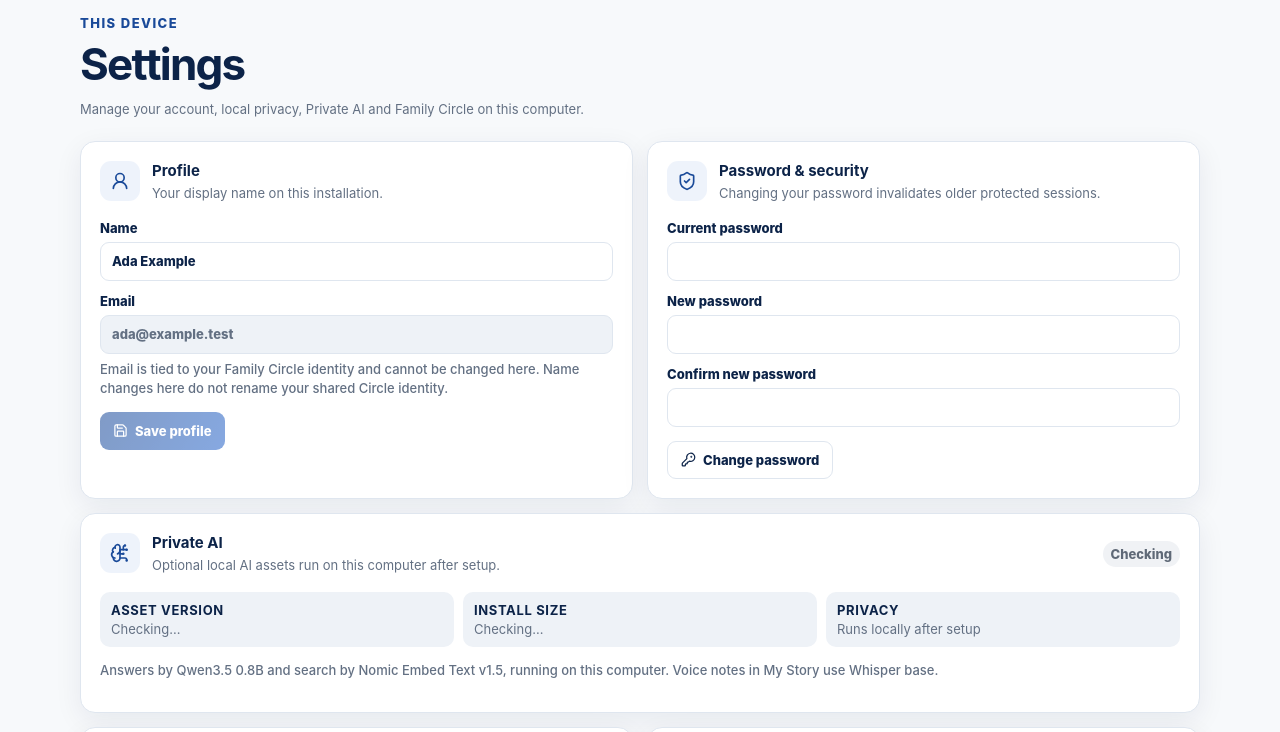
Scenario: SettingsPage › validates password confirmation before crossing the desktop boundary
Type "current password 123" into the password field labelled "Current password" at (924, 262), box [667, 242, 1180, 281]
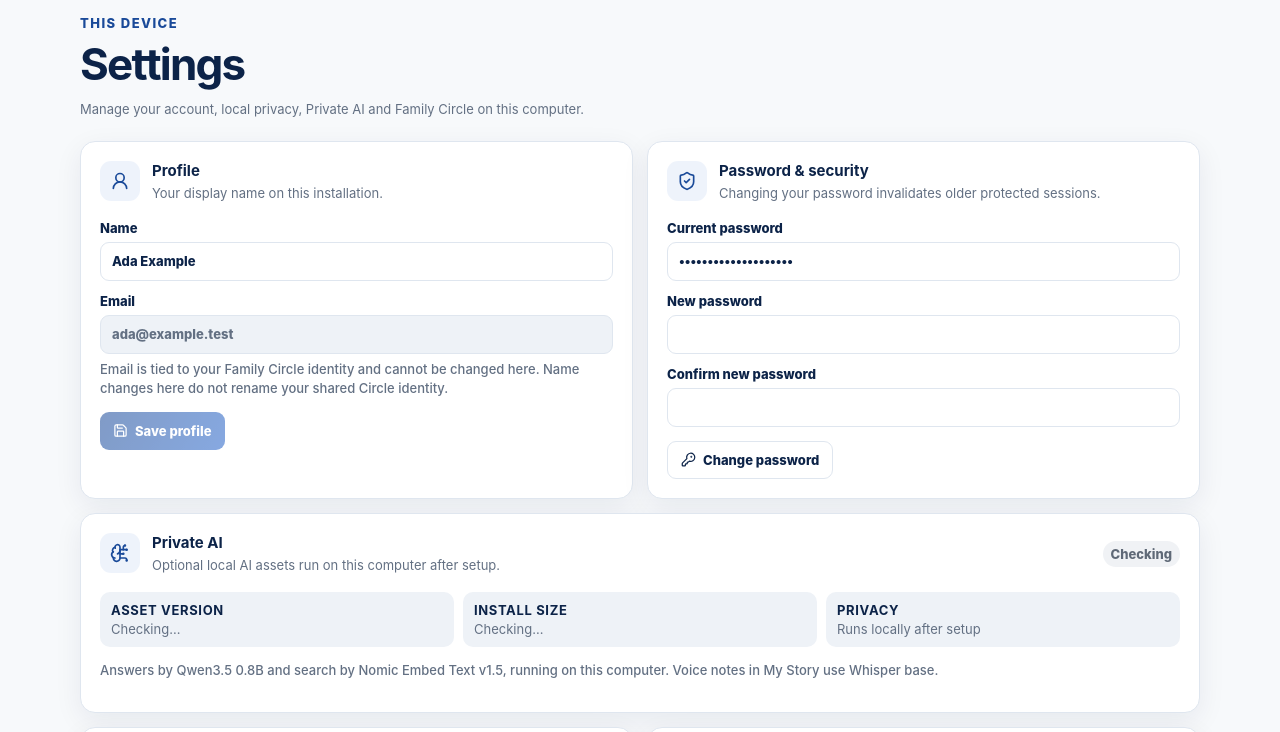
Type "another secure password 123" into the password field labelled "New password" at (924, 334), box [667, 315, 1180, 354]
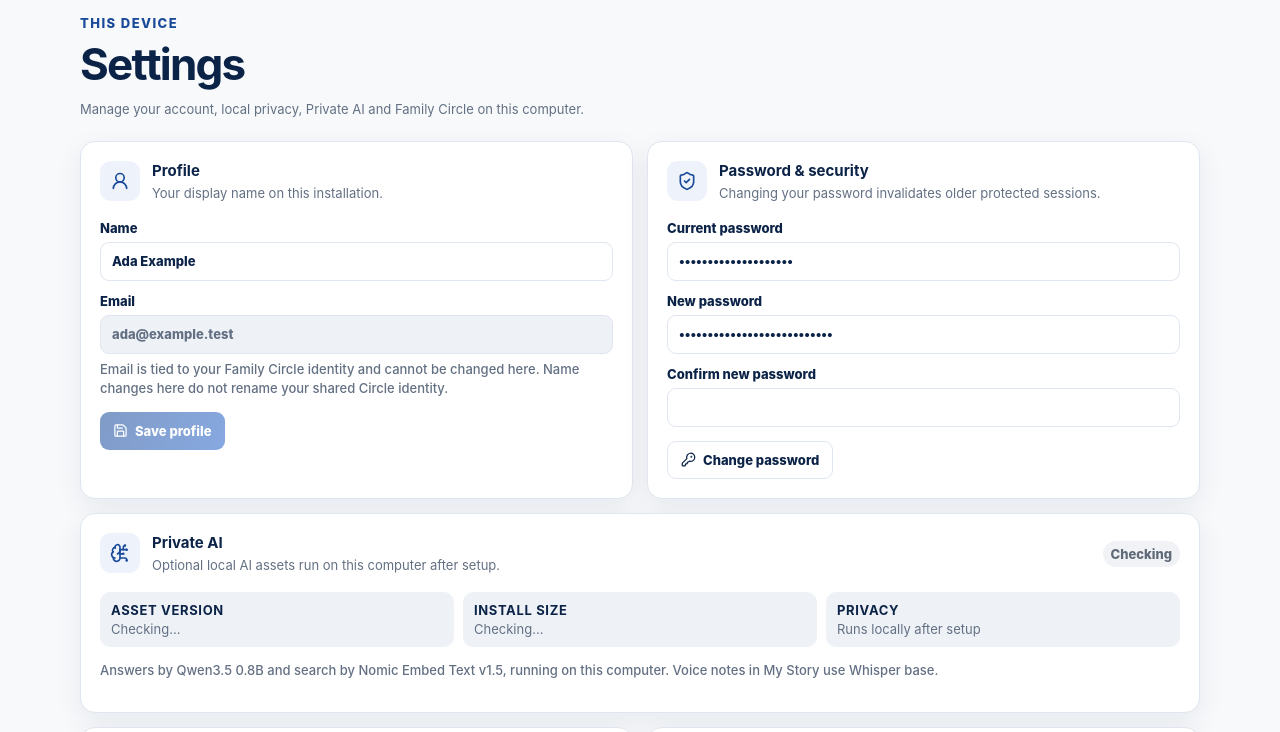
Type "different secure password 123" into the password field labelled "Confirm new password" at (924, 408), box [667, 388, 1180, 427]
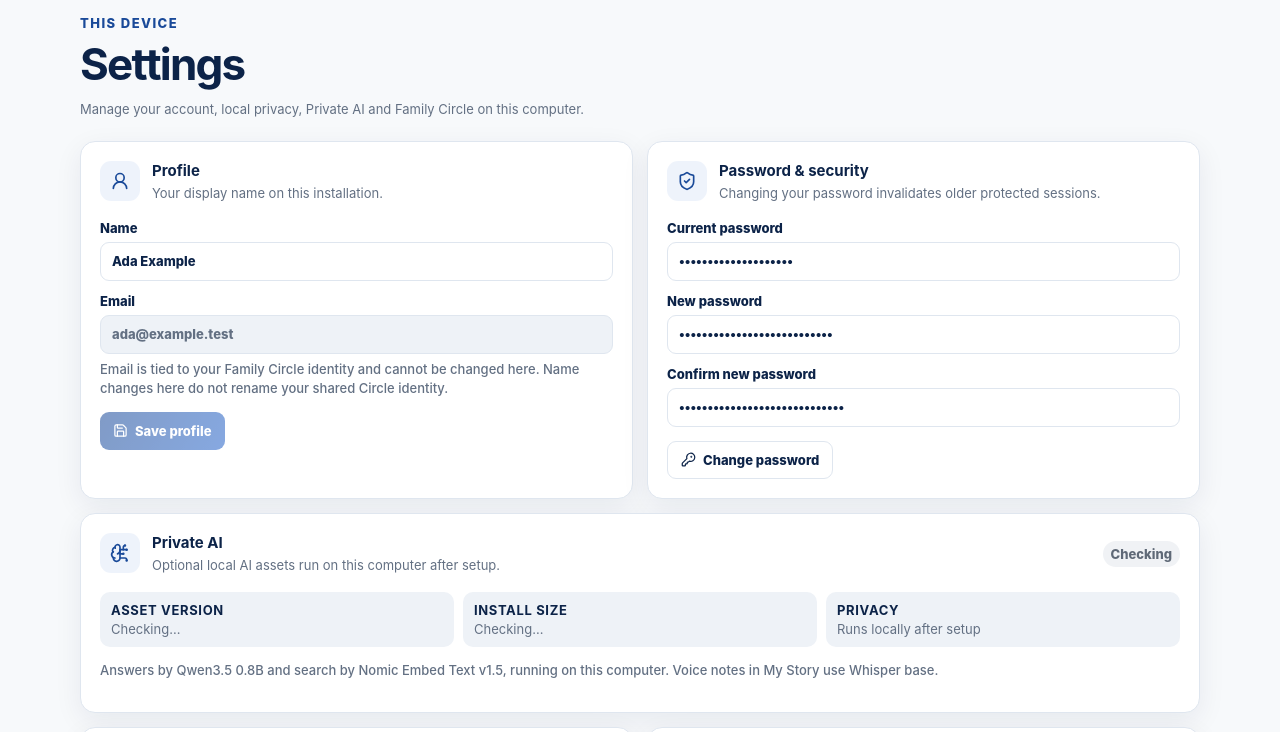
Click the button "Change password" at (750, 460), box [667, 441, 833, 479]
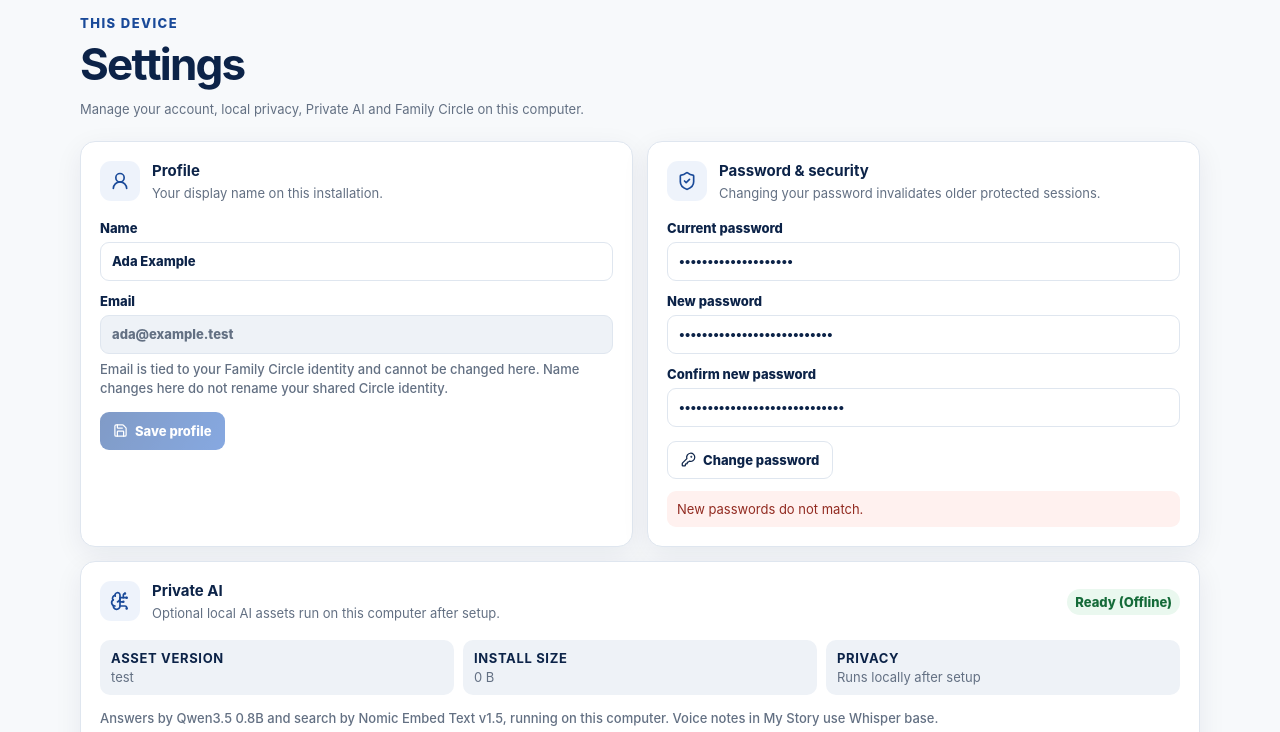
Check: the text "New passwords do not match." is shown, box [667, 491, 1180, 527]
